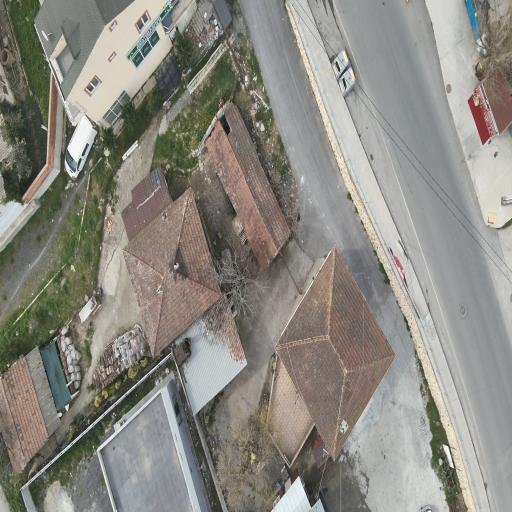car: (65, 116, 97, 179), (420, 506, 432, 511)
